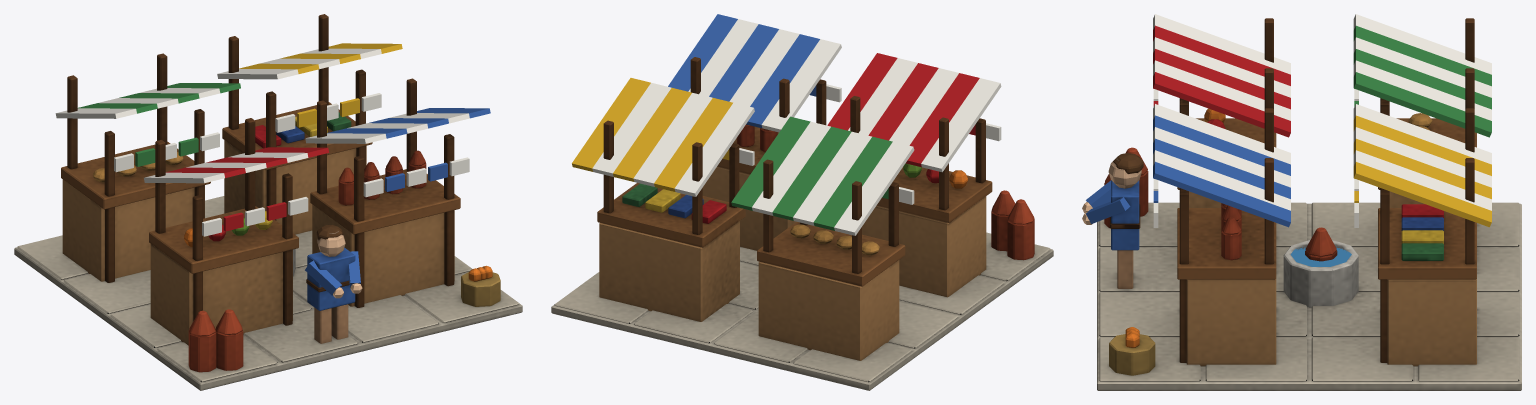
File: targ.glb
3 views of the same model, side by side, from view 1: azimuth 30°, elevation 25°; view 2: azimuth 150°, elevation 25°; view 3: azimuth 270°, elevation 25° (orthographic). The views are drawn at different scales.
Parts seen in each view (by area): view 1: targ, anim_kolys_markiza_5_6, anim_kolys_markiza_14_6, anim_kolys_markiza_14_15, anim_kolys_markiza_5_15, anim_kolys_kupiec; view 2: targ, anim_kolys_markiza_14_15, anim_kolys_markiza_5_15, anim_kolys_markiza_5_6, anim_kolys_markiza_14_6; view 3: targ, anim_kolys_markiza_14_15, anim_kolys_markiza_14_6, anim_kolys_markiza_5_15, anim_kolys_markiza_5_6, anim_kolys_kupiec, anim_woda_fontanna.
Part boxes in pixels (box(x1,y1,x2,y2)): targ: box(14, 14, 522, 390); anim_kolys_markiza_5_6: box(144, 147, 329, 236); anim_kolys_markiza_14_6: box(305, 108, 490, 197); anim_kolys_markiza_14_15: box(217, 43, 402, 132); anim_kolys_markiza_5_15: box(55, 83, 240, 172); anim_kolys_kupiec: box(305, 251, 362, 298); targ: box(551, 57, 1053, 390); anim_kolys_markiza_14_15: box(572, 78, 754, 196); anim_kolys_markiza_5_15: box(731, 116, 914, 235); anim_kolys_markiza_5_6: box(827, 53, 1001, 172); anim_kolys_markiza_14_6: box(668, 14, 841, 132); targ: box(1097, 18, 1521, 390); anim_kolys_markiza_14_15: box(1353, 104, 1491, 227); anim_kolys_markiza_14_6: box(1153, 104, 1290, 227); anim_kolys_markiza_5_15: box(1353, 14, 1491, 137); anim_kolys_markiza_5_6: box(1153, 14, 1290, 137); anim_kolys_kupiec: box(1082, 180, 1130, 224); anim_woda_fontanna: box(1290, 246, 1351, 266).
Size of the model in its own units: 1.8 by 0.9991 by 1.86.
8 materials, 1 textured.
